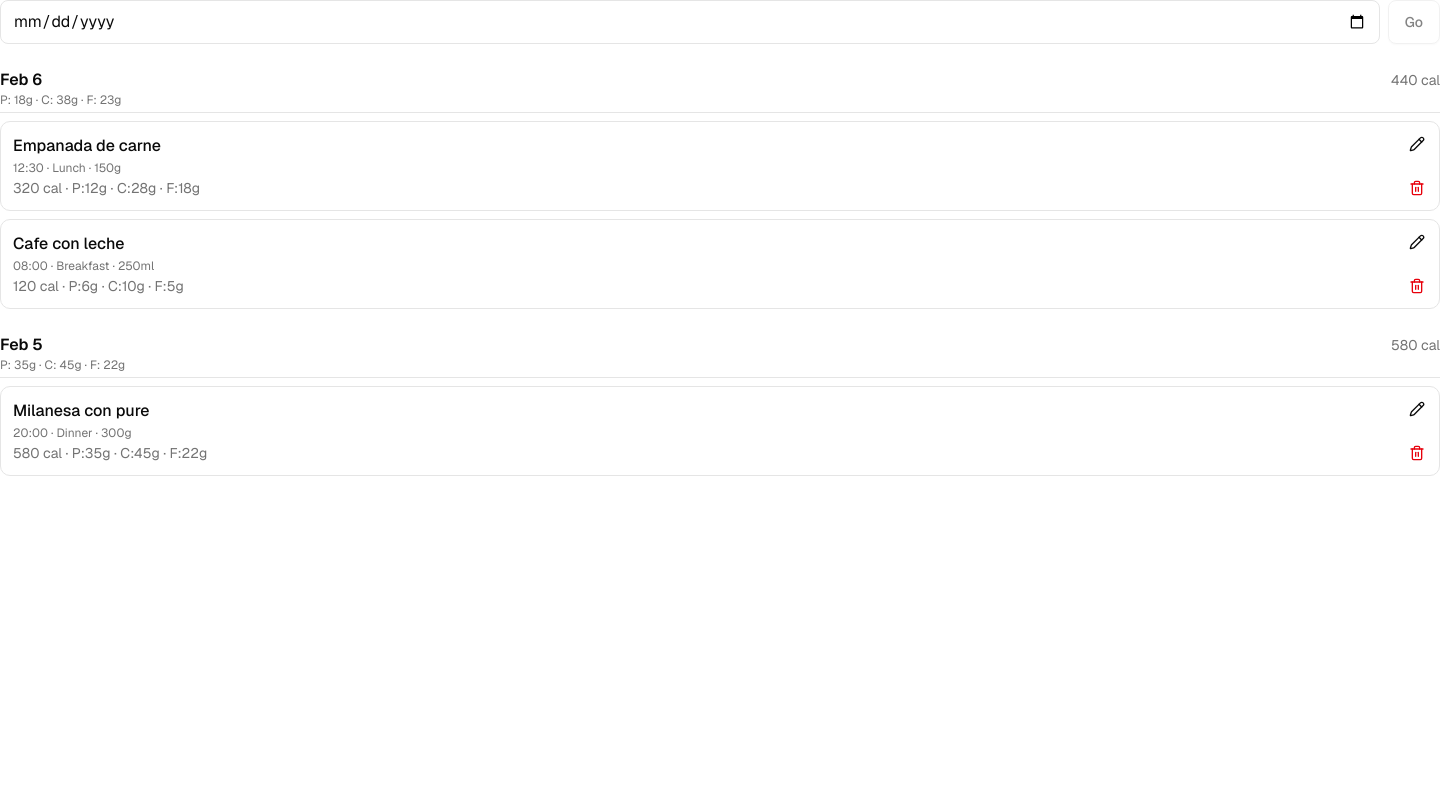
Test: FoodHistory › logs error to console when delete fails
This screenshot has width=1440, height=810.
Expected: the text "Empanada de carne" is shown, left=13, top=135, right=161, bottom=156
Note: Click delete button + confirm
Click the button named "delete" at (1417, 188), box left=1395, top=166, right=1439, bottom=210
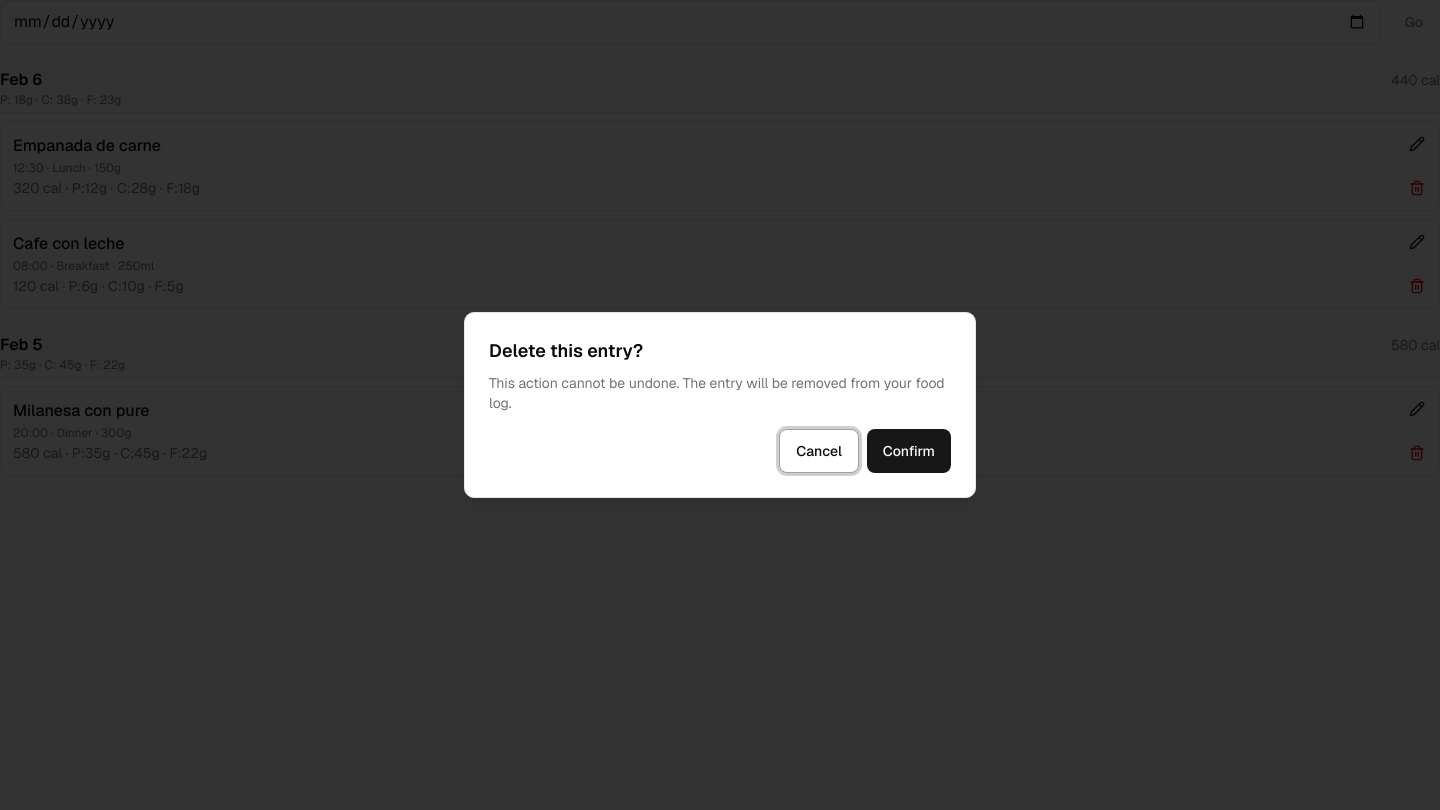
Click the button "Confirm" at (909, 451), box left=867, top=429, right=951, bottom=473
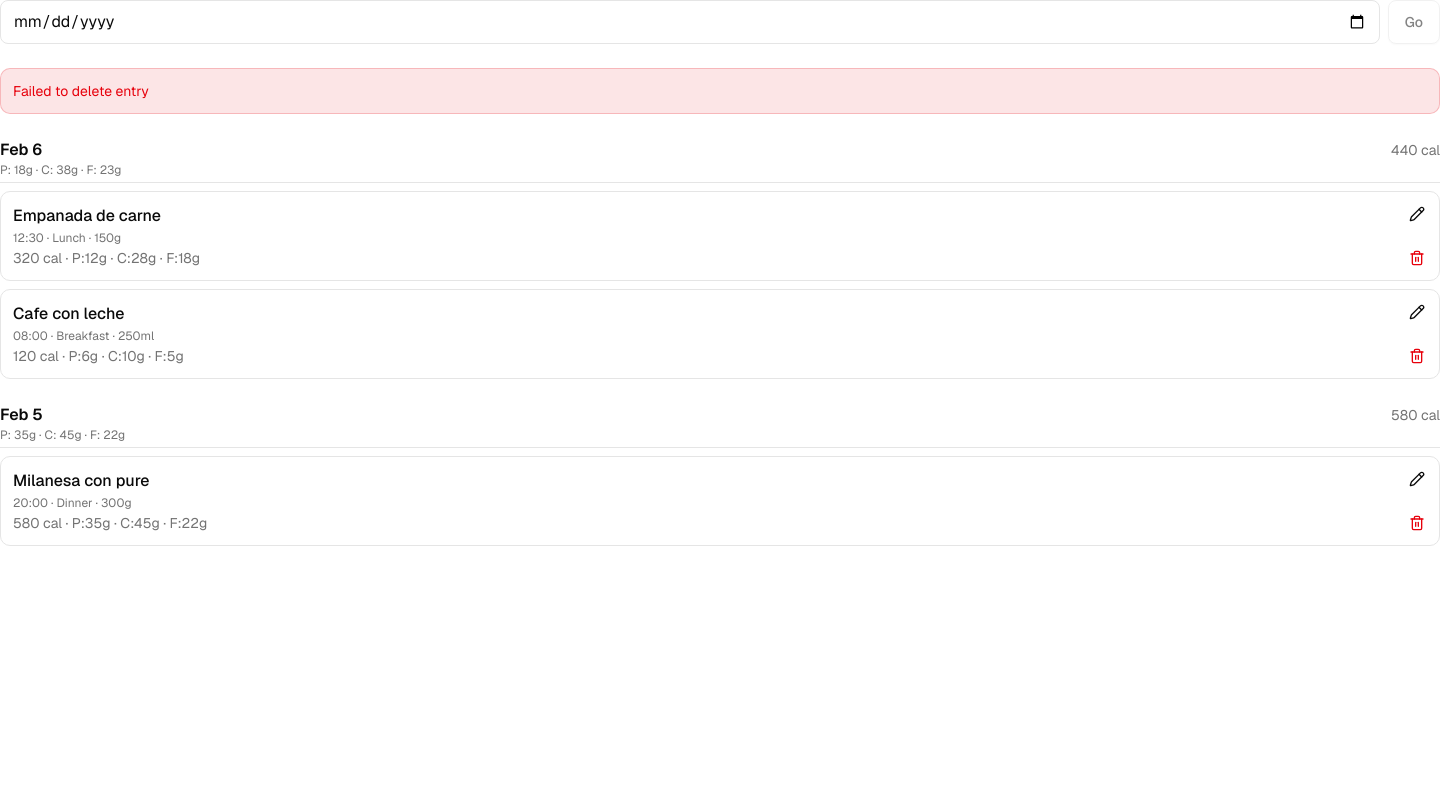
Now the text "Failed to delete entry" is shown, box left=13, top=82, right=149, bottom=100
